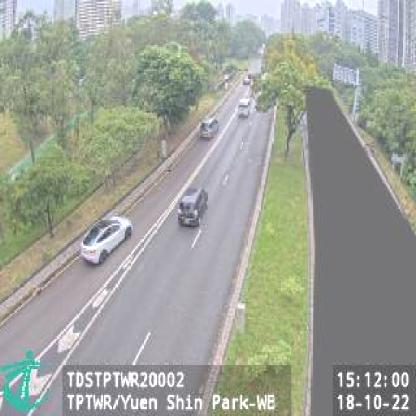Car: (78, 212, 134, 266), (176, 185, 209, 229), (199, 116, 220, 142), (238, 97, 252, 120)
